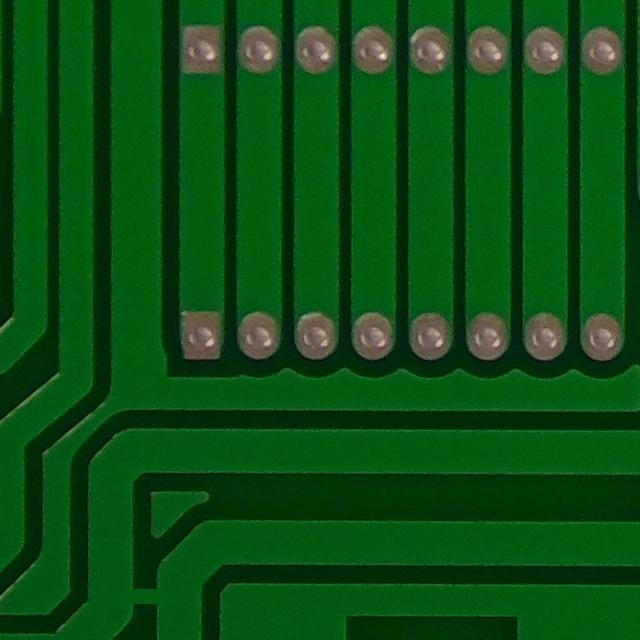short: (91, 546, 188, 640)
